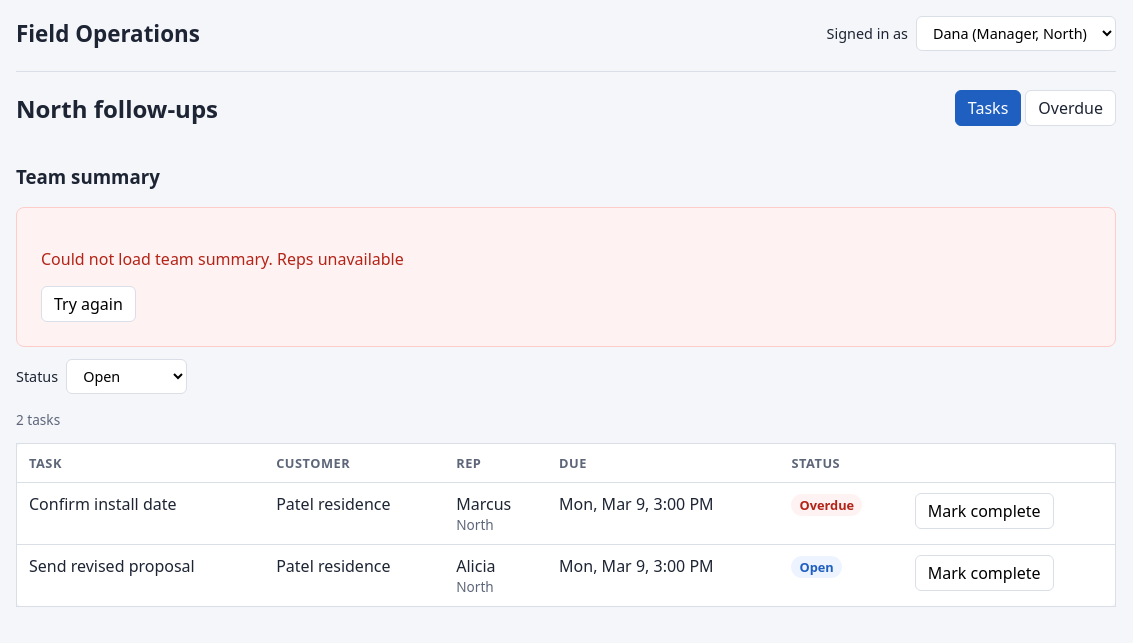
Manager summary › shows and retries reps API errors instead of displaying zero counts
Expected: the message shows "unavailable", [277,248,404,270]
Click the button "Try again": point(88, 304) [41,286,136,322]
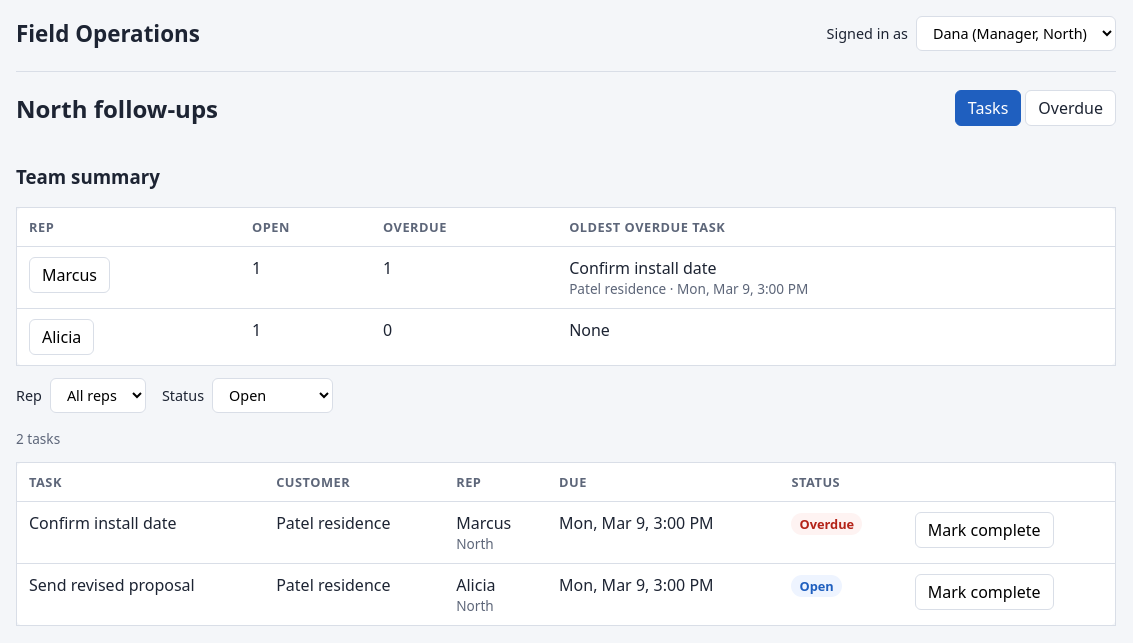
Expected: the table named "Tasks by rep" is shown, [16,207,1116,366]
Expected: the message "Could not load team summary. Reps unavailable Try again" is gone
